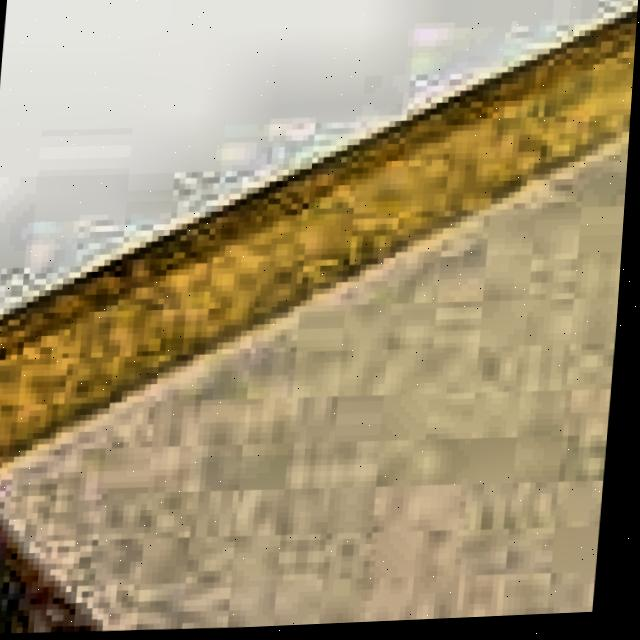paper: (0, 14, 638, 634)
